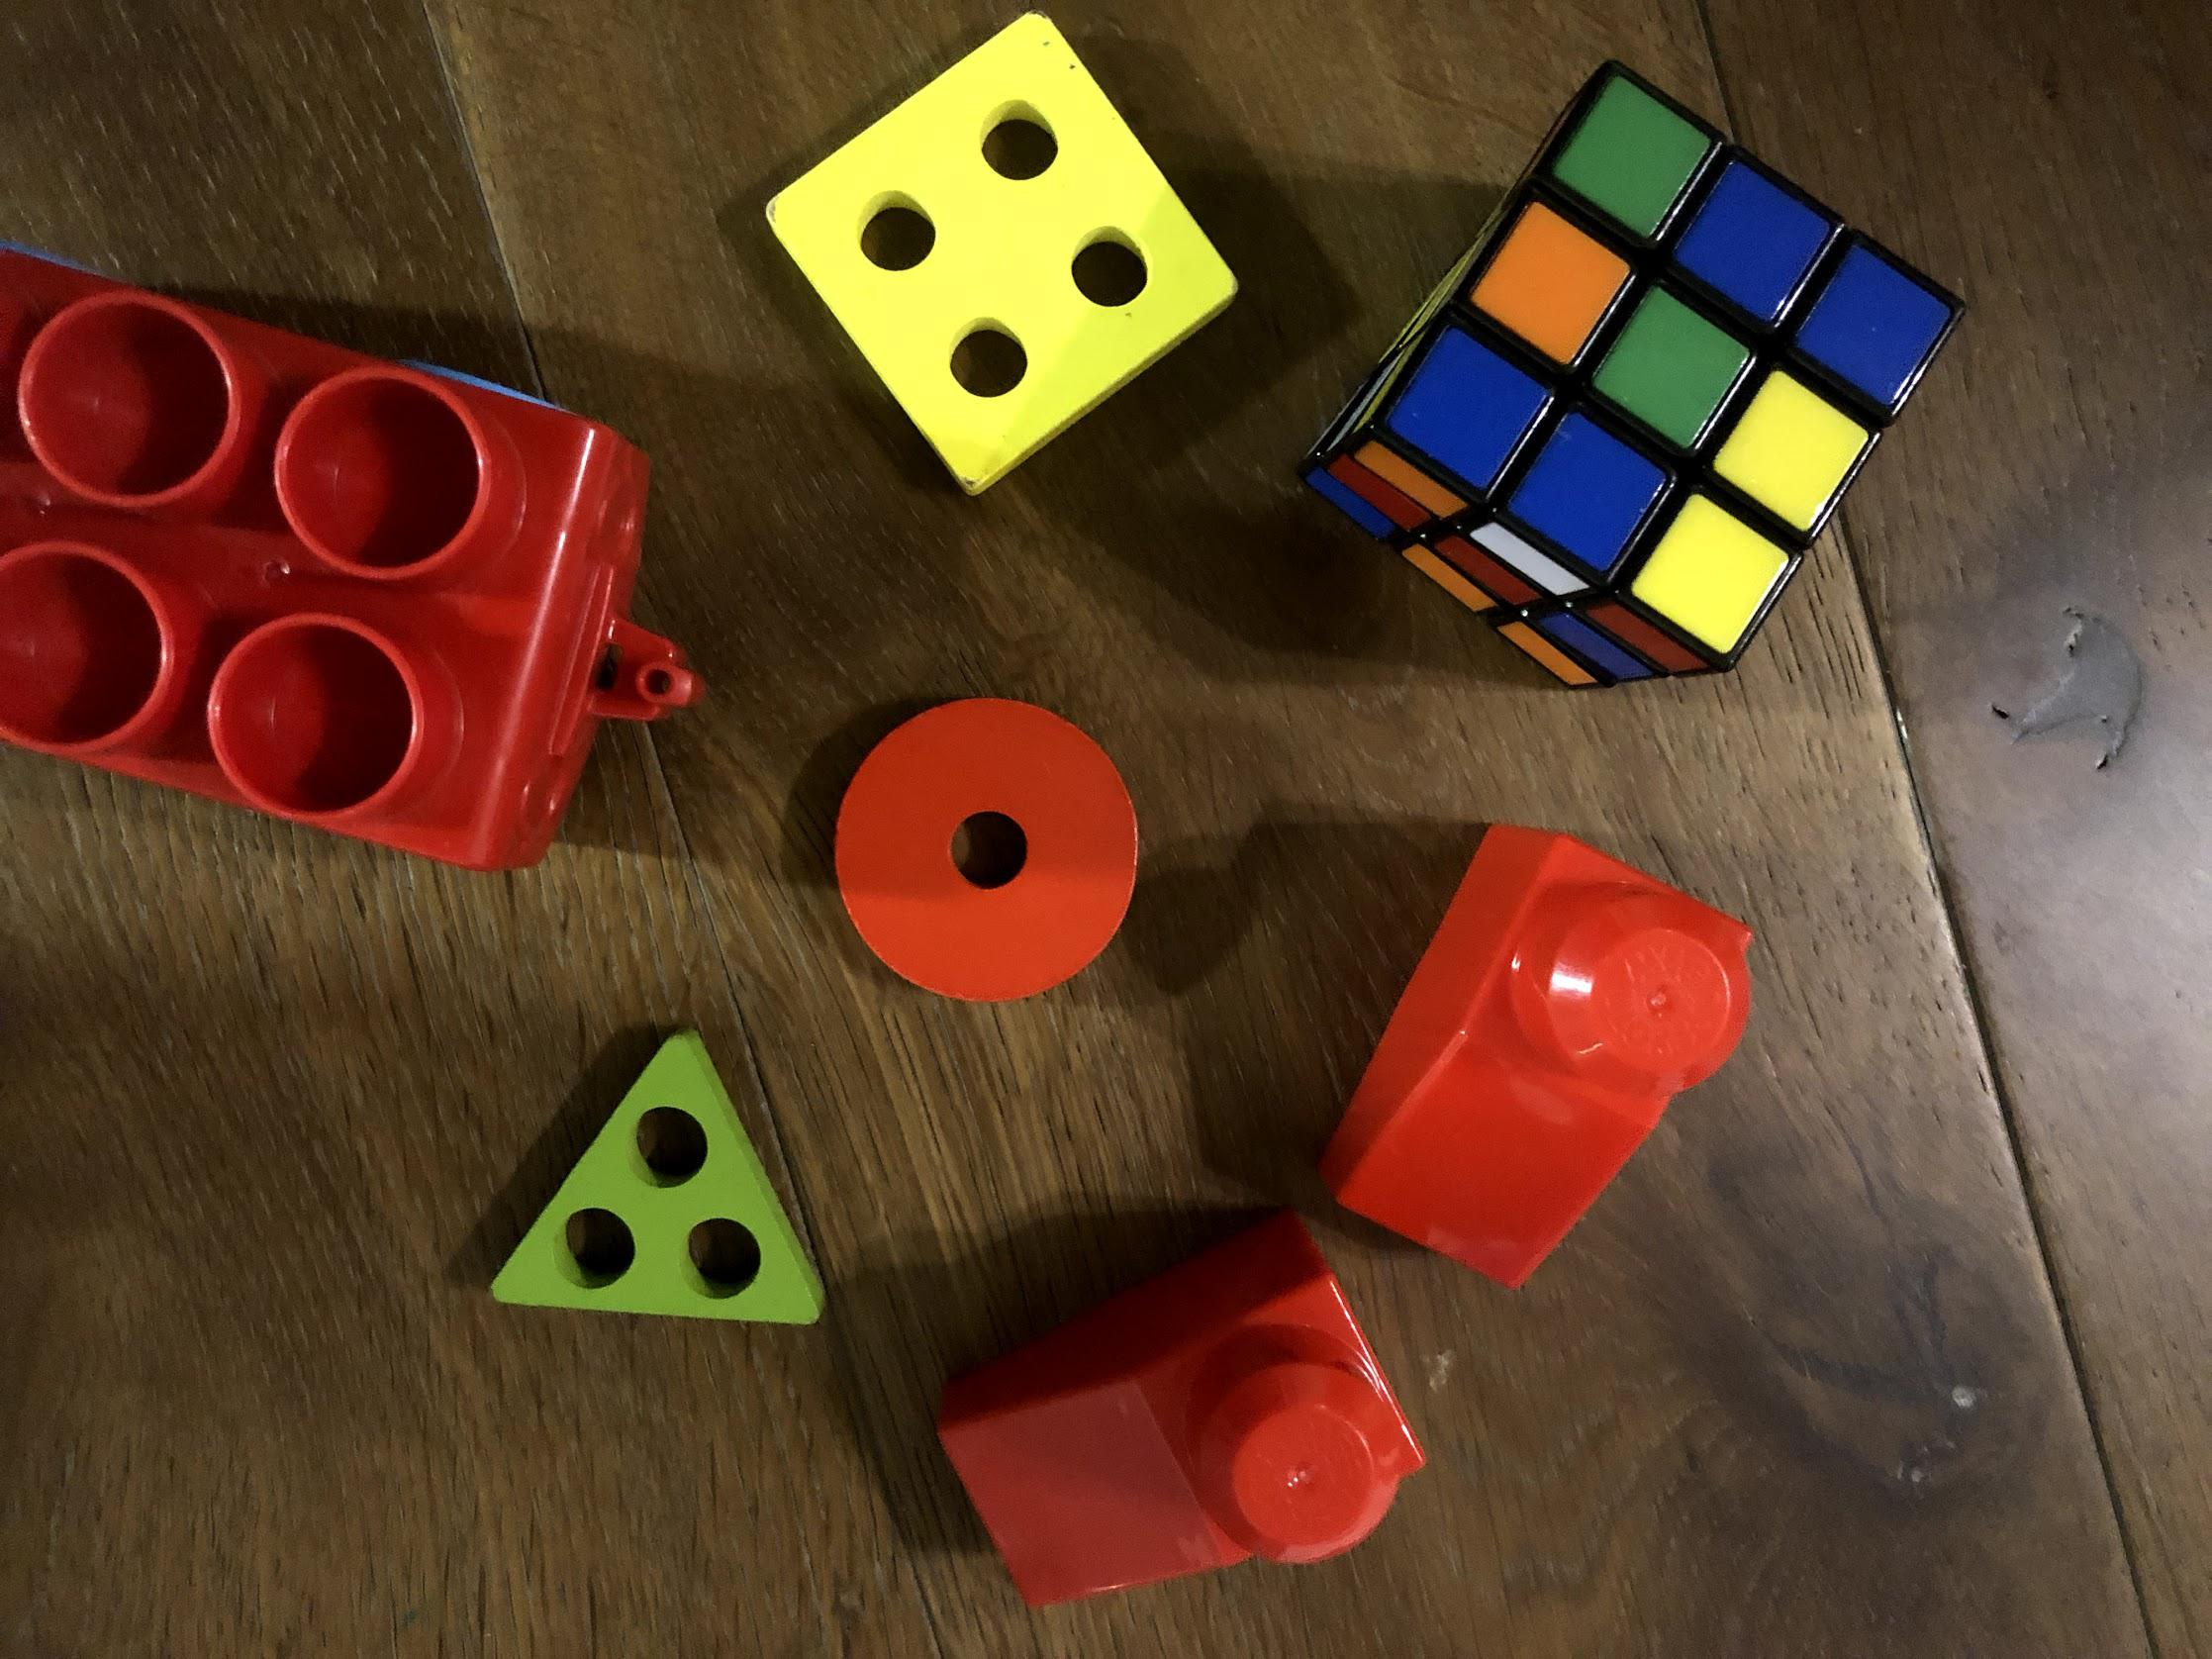Circle: (829, 690, 1146, 1000)
Square: (763, 9, 1238, 500)
Triangle: (489, 1030, 831, 1323)
